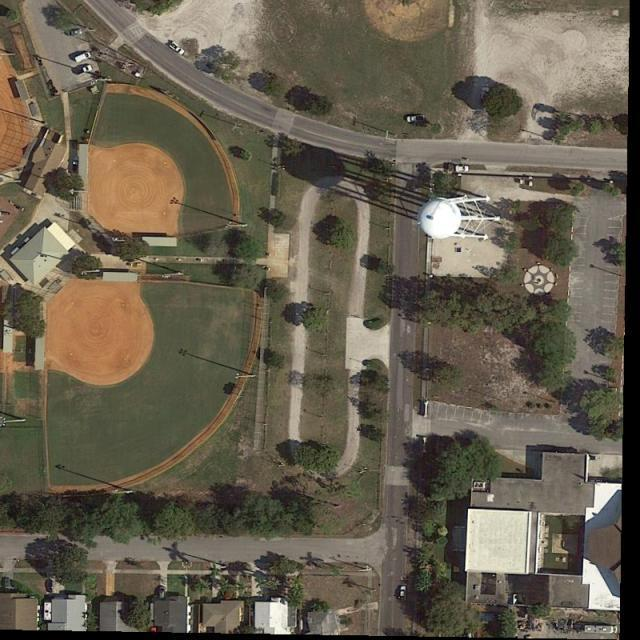vehicle: (72, 49, 93, 64), (168, 40, 185, 57), (75, 63, 94, 77), (406, 114, 426, 124), (67, 28, 82, 38), (454, 165, 470, 174), (399, 586, 407, 601), (72, 157, 80, 171), (160, 586, 166, 600), (48, 579, 54, 593)
